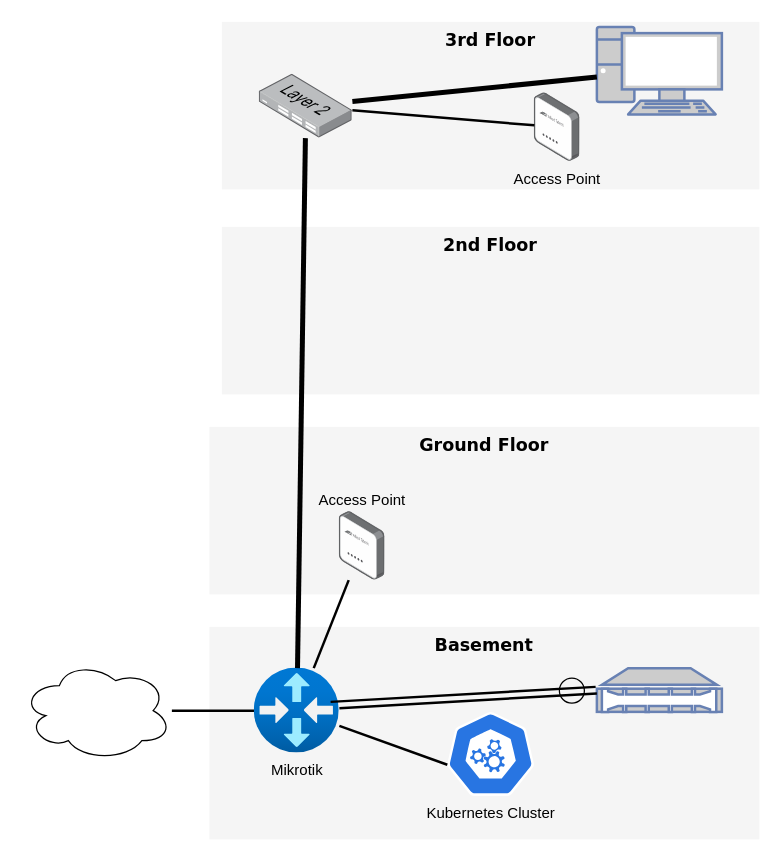
The diagram is 781 pixels wide and 860 high, and some of its shapes have lost their labels. Each missing label, with the centre of its shape:
Internet: (x=96, y=710)
NAS: (x=658, y=689)
PC: (x=658, y=70)
Switch: (x=305, y=106)
